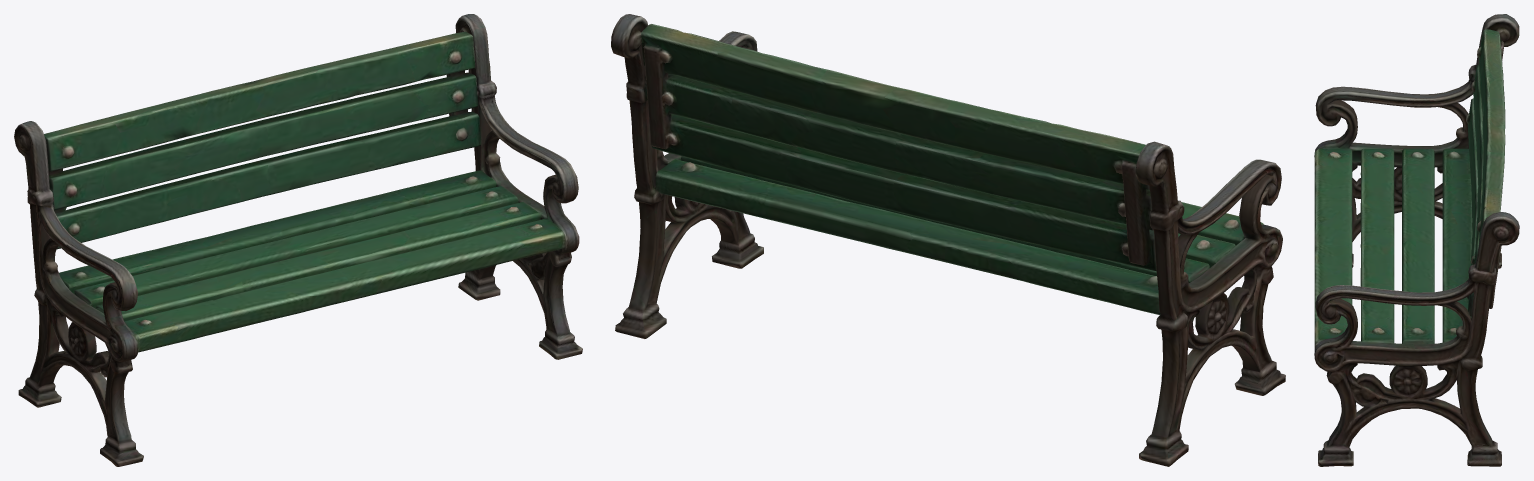
Rendered from prop-02-bench.glb.
3 renders of one model, left to right at view 1: azimuth 30°, elevation 25°; view 2: azimuth 150°, elevation 25°; view 3: azimuth 270°, elevation 25°, orthographic. The views are drawn at different scales.
Visible parts, largest first — view 1: tripo_node_41437498-3ff1-45fc-8bff-f37a80ff8525; view 2: tripo_node_41437498-3ff1-45fc-8bff-f37a80ff8525; view 3: tripo_node_41437498-3ff1-45fc-8bff-f37a80ff8525.
Part boxes in pixels (bbox=[...]): tripo_node_41437498-3ff1-45fc-8bff-f37a80ff8525: bbox=[14, 14, 582, 466]; tripo_node_41437498-3ff1-45fc-8bff-f37a80ff8525: bbox=[611, 14, 1285, 466]; tripo_node_41437498-3ff1-45fc-8bff-f37a80ff8525: bbox=[1314, 14, 1519, 466].
Size of the model in its own units: 1 by 0.5492 by 0.4131.
Materials: 1 (1 with a texture image).
